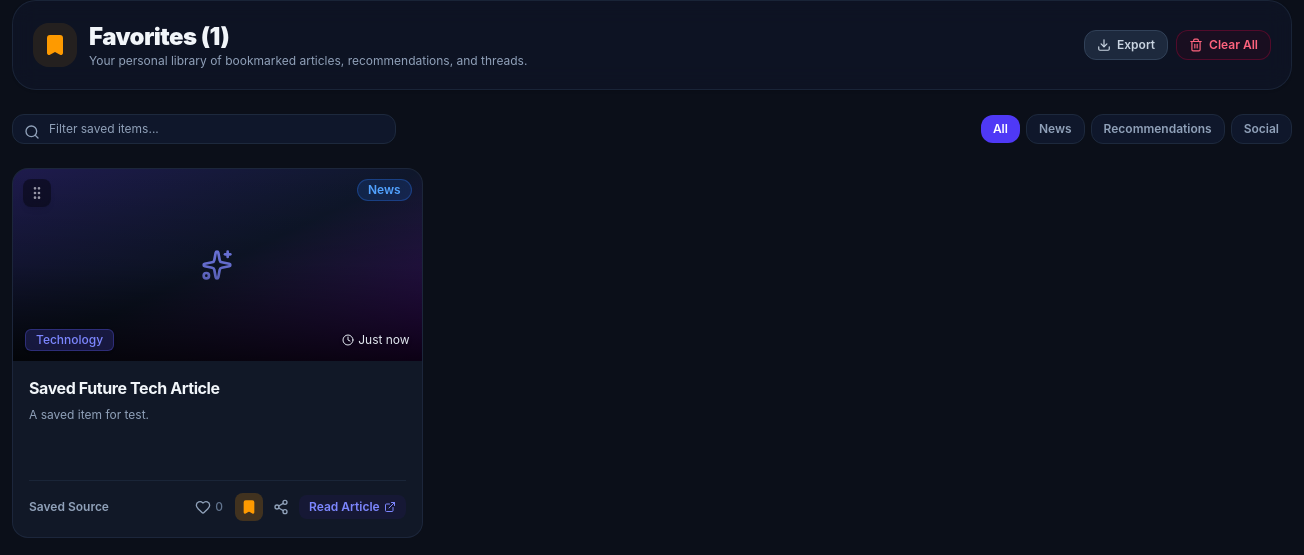
FavoritesView Integration › should filter items when typing in the search bar
This screenshot has width=1304, height=555.
Type "nonexistent" into the field with placeholder "Filter saved items..." at (204, 129), box [12,114,396,144]
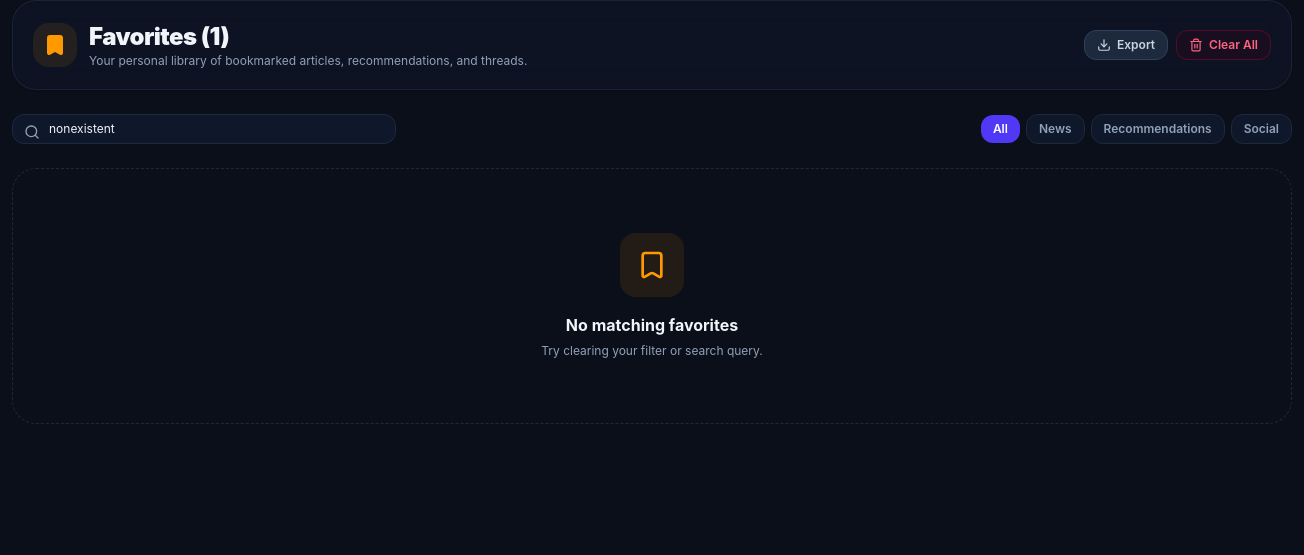
Expected: the heading "Saved Future Tech Article" is gone
Expected: the heading "No matching favorites" is shown, [566,313,738,337]
